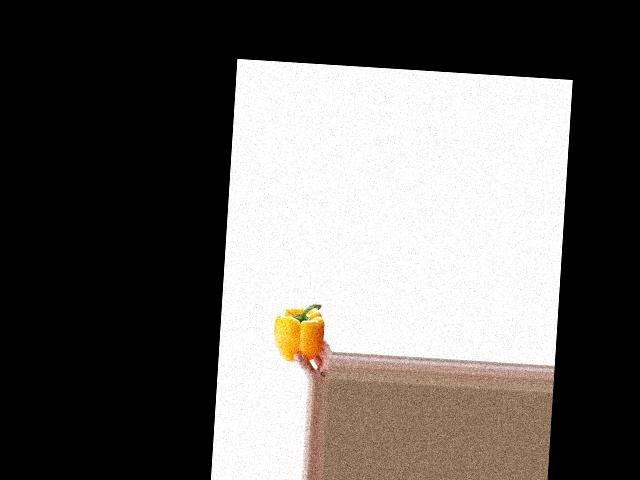bell_pepper: (270, 298, 325, 364)
